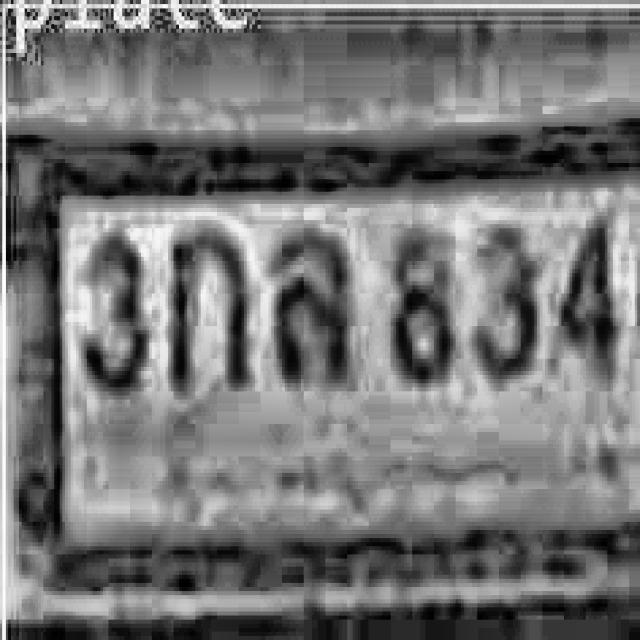license-plate: (27, 145, 640, 564)
